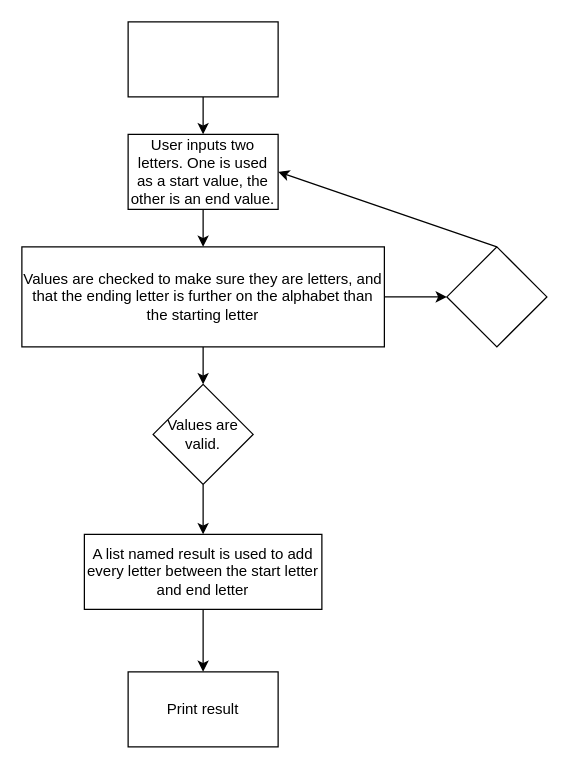
The diagram is 569 pixels wide and 769 high, and some of its shapes have lost their labels. The shapes that lost their labels are listed below. From the top down, each one's box as (x1, y1, x2, y2) in pixels, then its label:
(127, 21, 278, 97): Start
(446, 246, 547, 347): Values are invalid.
